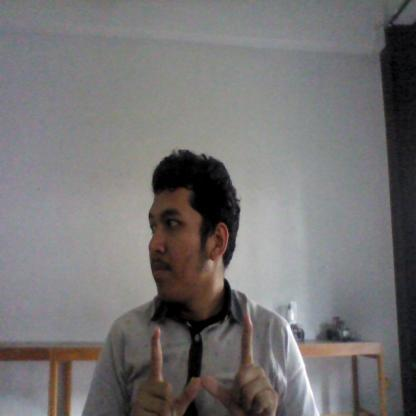W: (131, 310, 279, 416)
